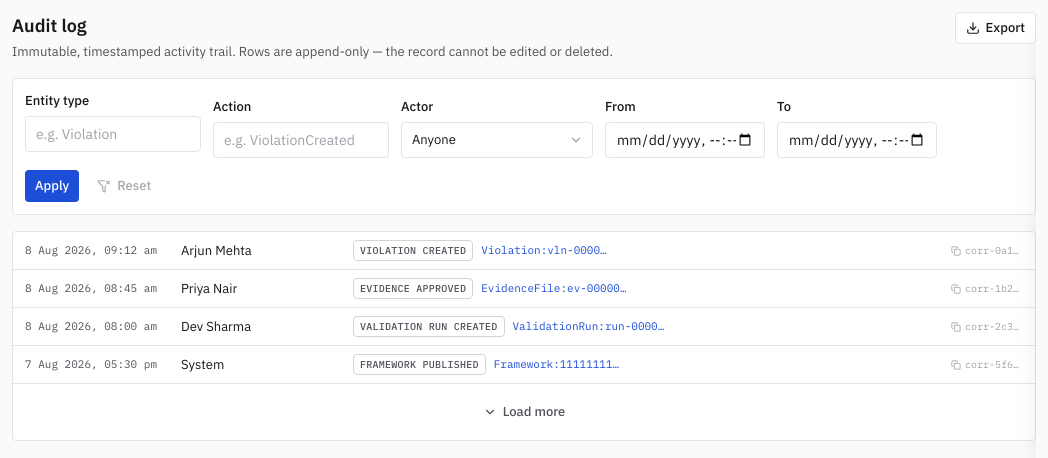
AuditView (§9.12) › filters the stream by entity type
Expected: the text "Violation Created" is shown, [353, 240, 473, 261]
Type "EvidenceFile" into the field labelled "Entity type" at (113, 134), box [25, 116, 201, 152]
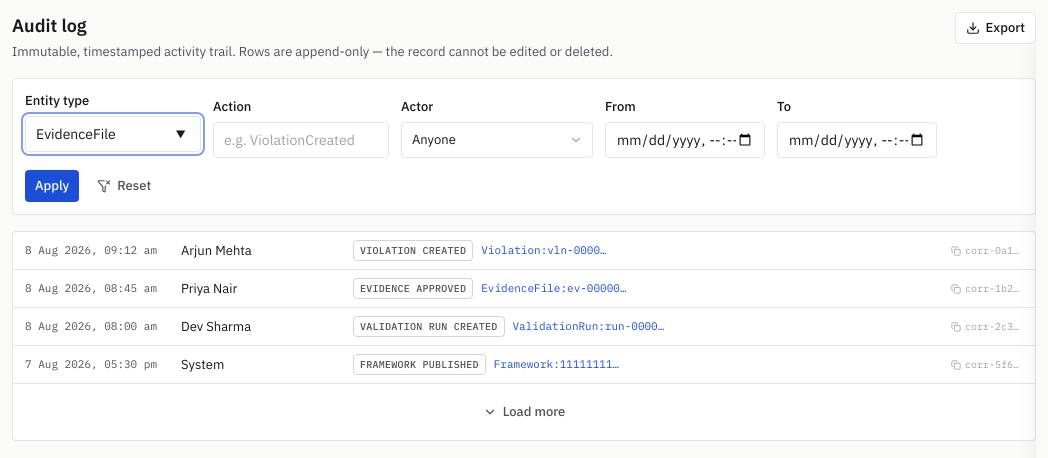
Click the button "Apply" at (52, 186), box [25, 170, 79, 202]
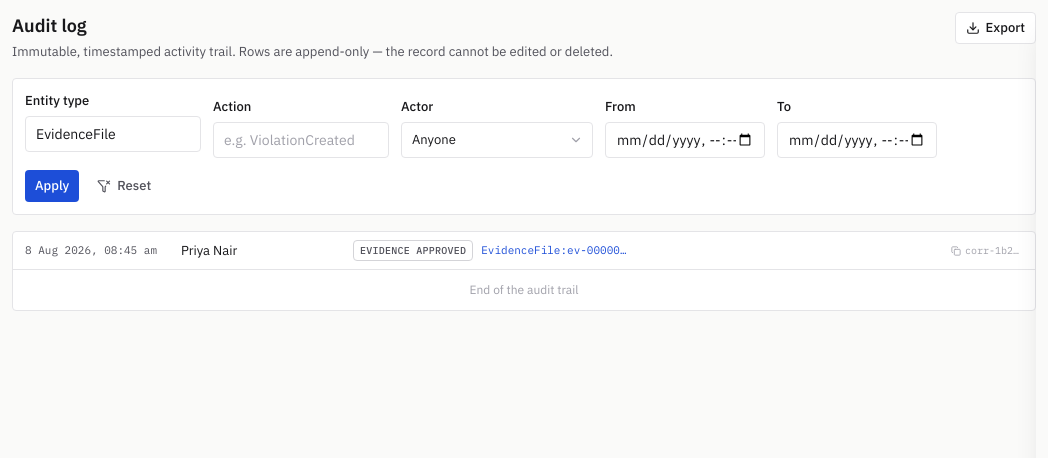
Expected: the text "Evidence Approved" is shown, [353, 240, 473, 261]
Result: the text "Violation Created" is gone
Result: the text "Framework Published" is gone
